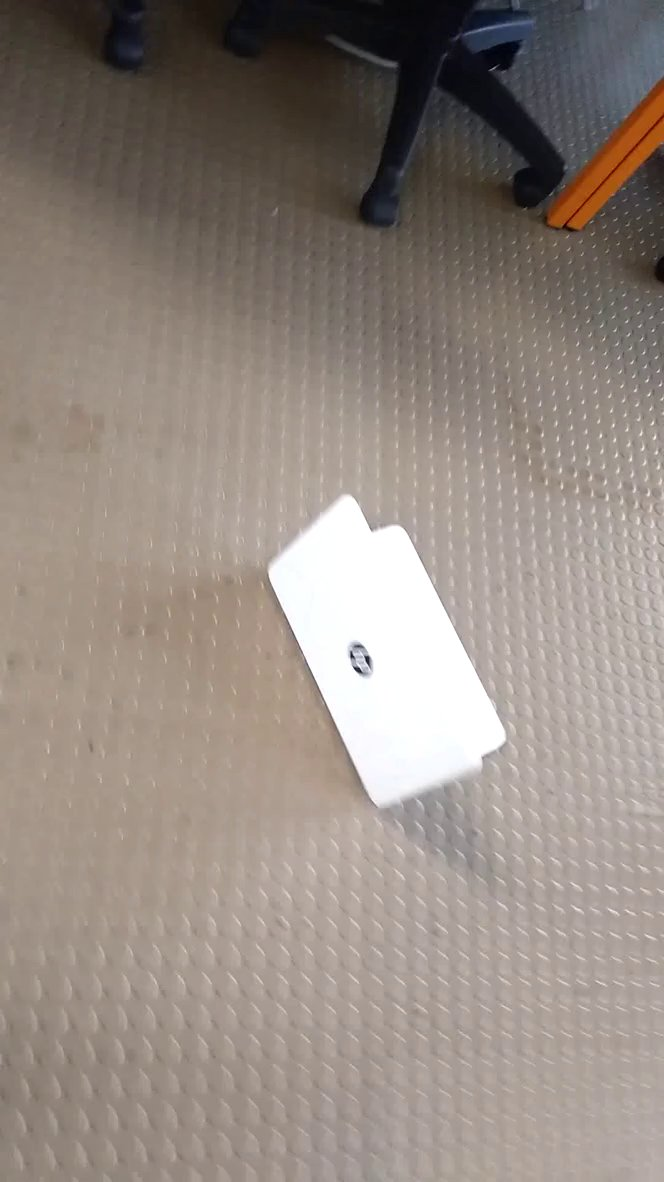laptop: (263, 485, 523, 825)
